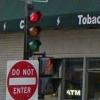Traffic light: (15, 9, 50, 65)
